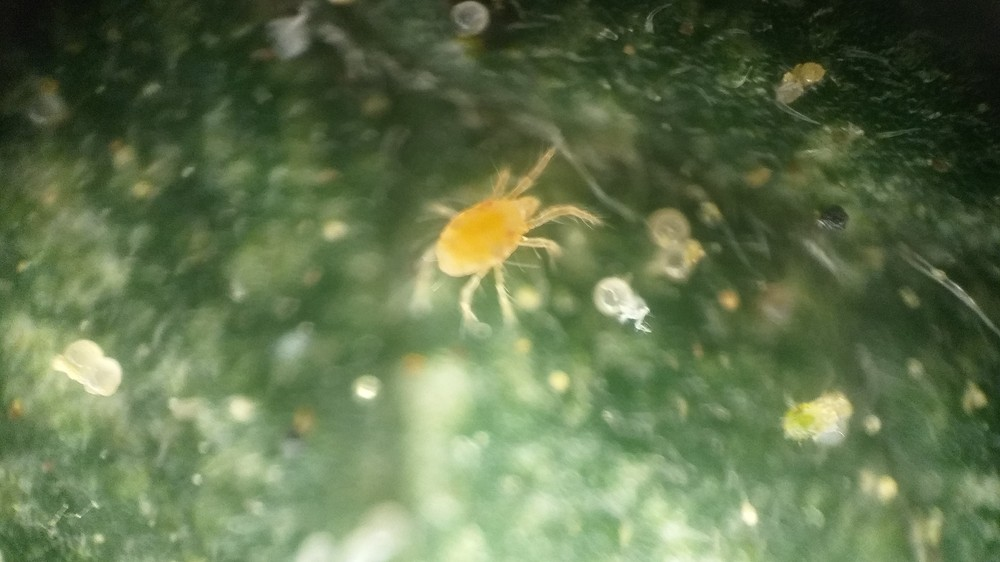Aracnido Rojo: (381, 113, 633, 370)
